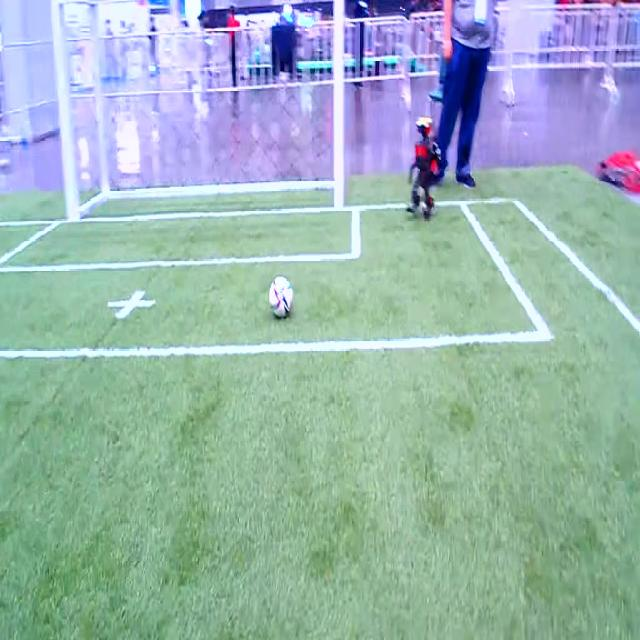ball: (269, 276, 293, 318)
